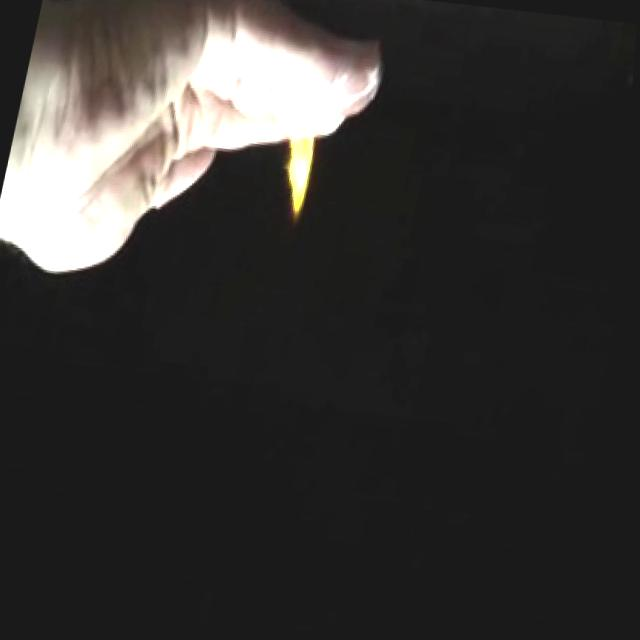Fire: (267, 108, 326, 231)
